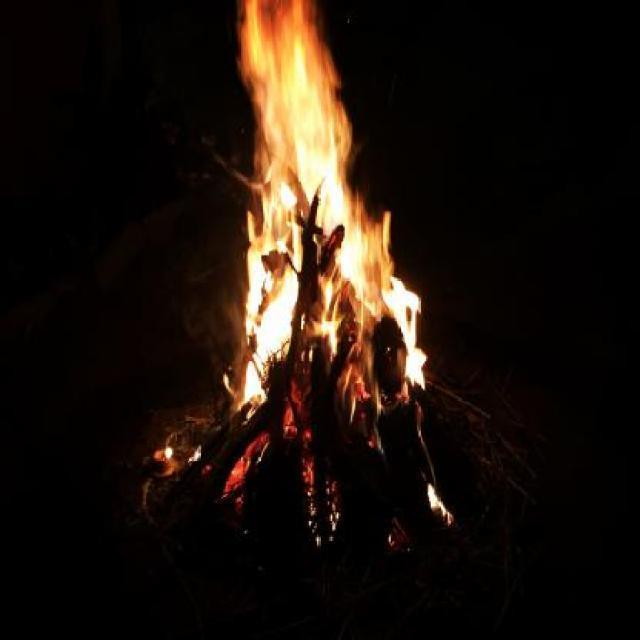Fire: (238, 1, 424, 386)
